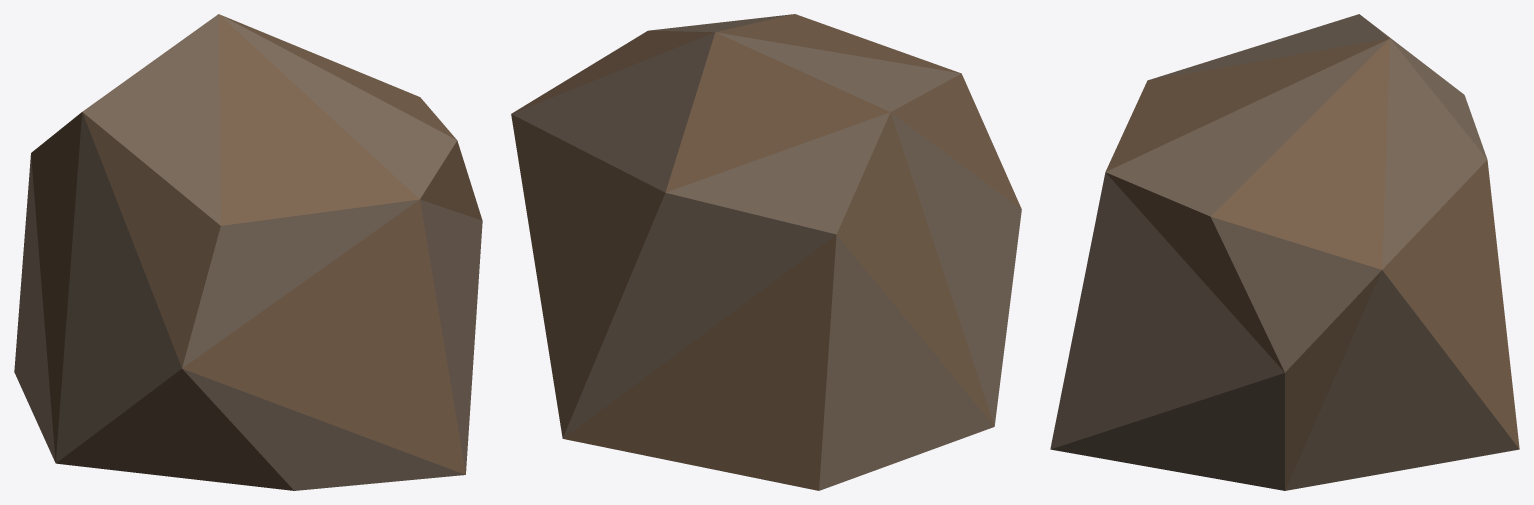
File: piedra_2.FBX
3 renders of one model, left to right at view 1: azimuth 30°, elevation 25°; view 2: azimuth 150°, elevation 25°; view 3: azimuth 270°, elevation 25°, orthographic. The views are drawn at different scales.
Parts seen in each view (by area): view 1: piedra; view 2: piedra; view 3: piedra.
Boxes of the visible parts, left/top/right/bottom form: piedra: left=14, top=14, right=482, bottom=490; piedra: left=511, top=14, right=1021, bottom=490; piedra: left=1050, top=14, right=1519, bottom=490.
Bounding box in the file's own units: 17.84 × 14.39 × 16.53.
